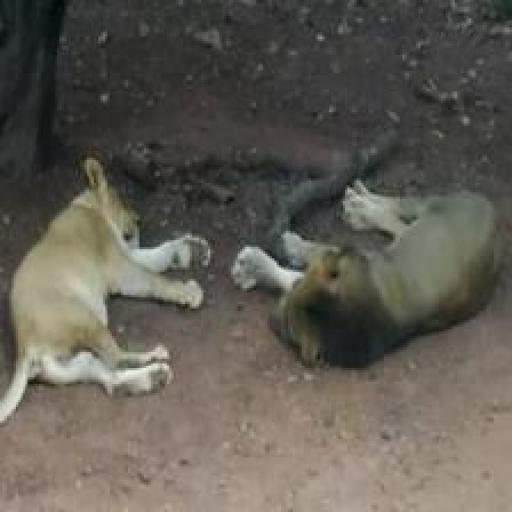Tiger: (0, 130, 219, 436)
